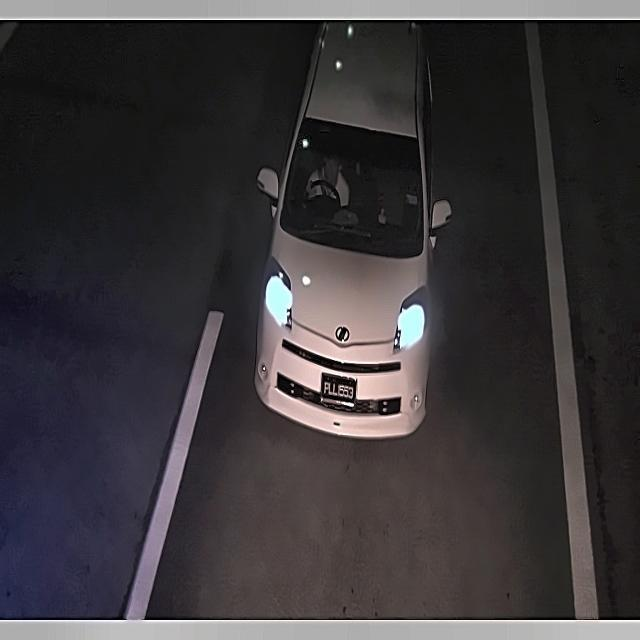car: (317, 369, 362, 412)
